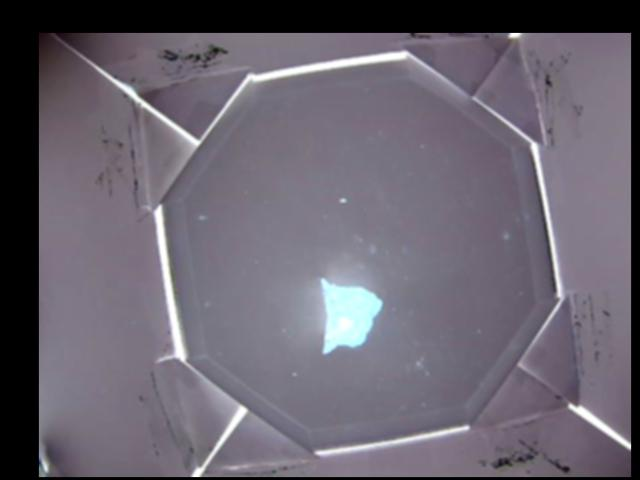Brisk: (319, 275, 382, 354)
